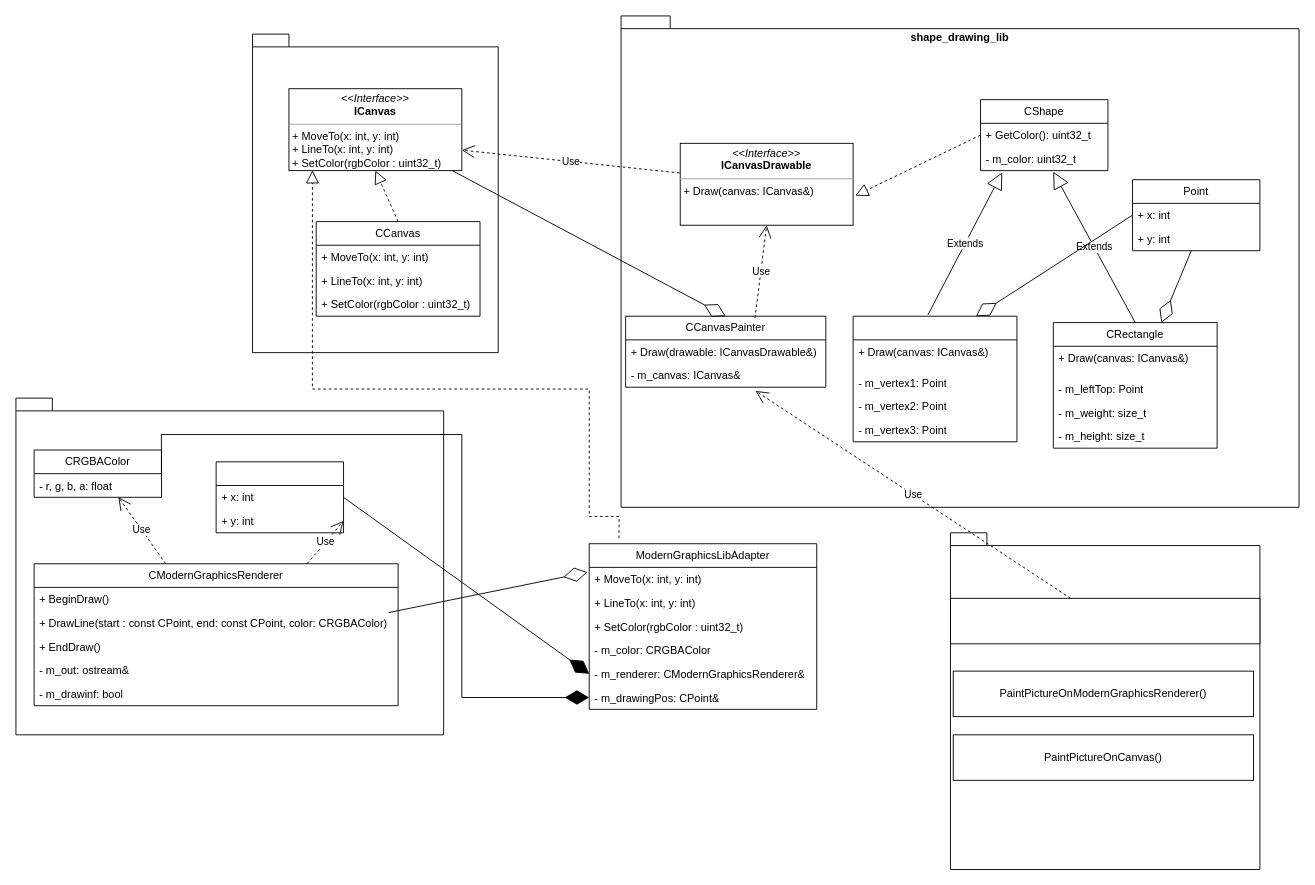
This 1315x885 diagram has some shape labels left out. Here are the shapes that lost their labels. From the top down, the box of each, then its label:
(252, 33, 498, 353): graphics_lib
(852, 315, 1017, 442): CTriangle
(215, 461, 344, 533): CPoint
(15, 397, 444, 735): modern_graphics_lib
(950, 597, 1260, 644): PaintPicture(painter: CCanvasPainter& )
(950, 532, 1260, 870): app
